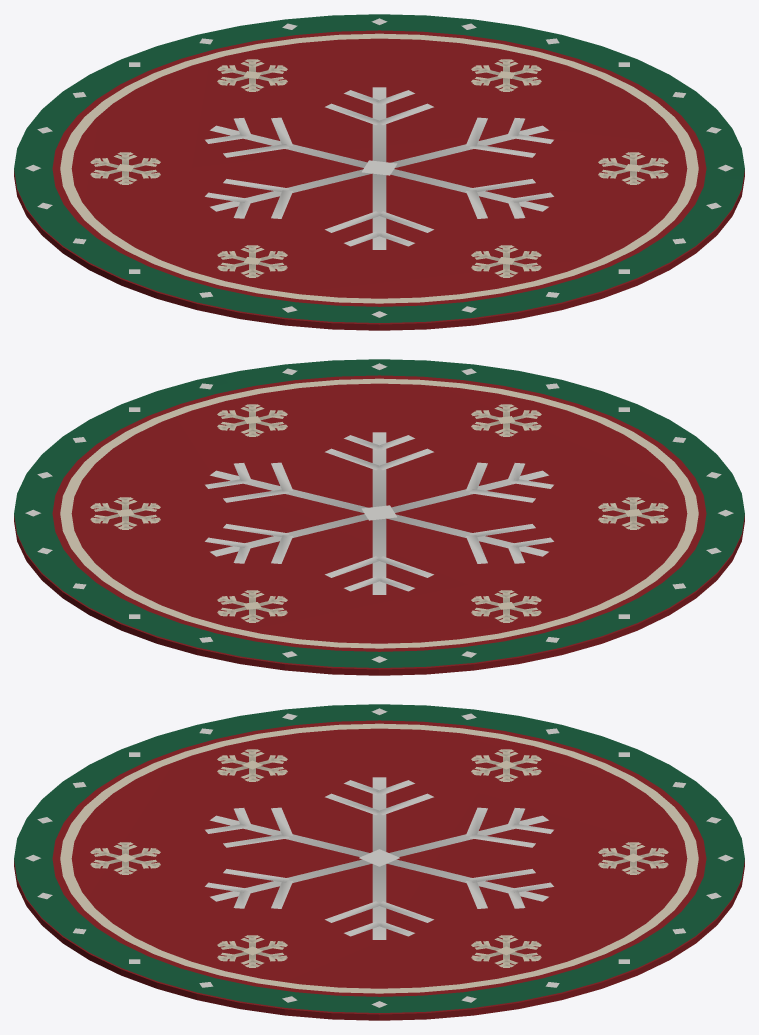
The model's file is xmas_rug_snowflake.glb.
3 views of the same model, one above another, from view 1: azimuth 30°, elevation 25°; view 2: azimuth 150°, elevation 25°; view 3: azimuth 270°, elevation 25° (orthographic).
Size of the model in its own units: 1.9 by 0.024 by 1.9.
